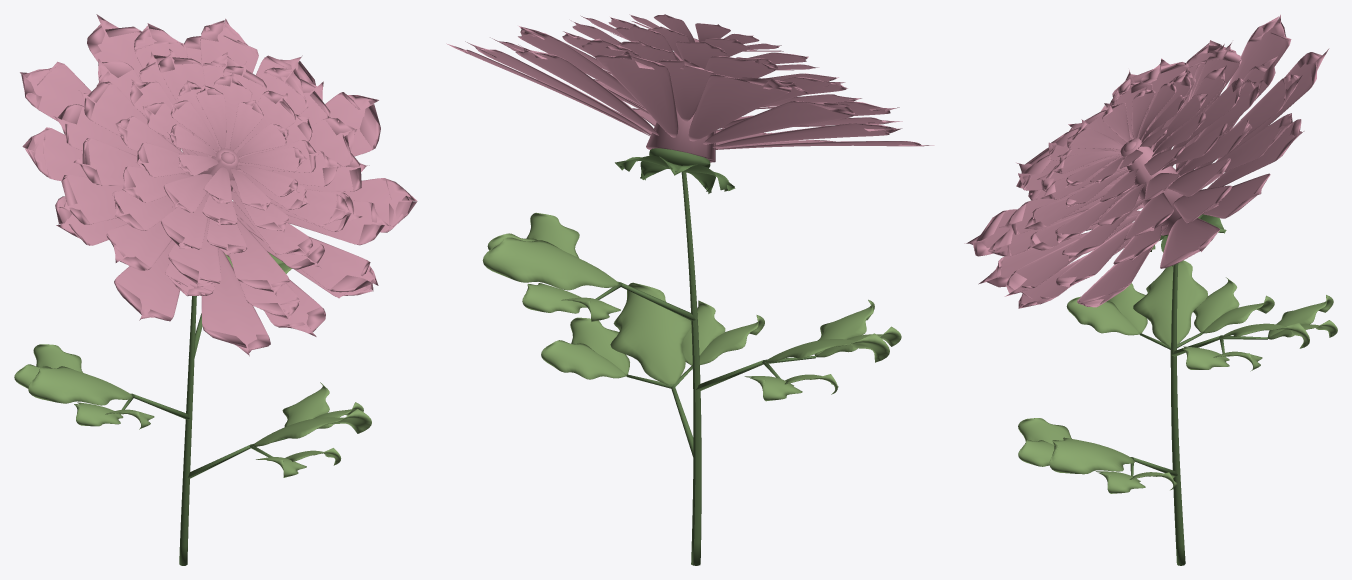
File: peony-legendary-v2.glb
3 views of the same model, side by side, from view 1: azimuth 30°, elevation 25°; view 2: azimuth 150°, elevation 25°; view 3: azimuth 270°, elevation 25° (orthographic). The views are drawn at different scales.
Visible parts, largest first — view 1: peony-legendary-v2-petal, peony-legendary-v2-leaf, peony-legendary-v2-stem; view 2: peony-legendary-v2-petal, peony-legendary-v2-leaf, peony-legendary-v2-stem; view 3: peony-legendary-v2-petal, peony-legendary-v2-leaf, peony-legendary-v2-stem.
Part boxes in pixels (x1=…): peony-legendary-v2-petal: x1=20, y1=14, x2=417, y2=356; peony-legendary-v2-leaf: x1=14, y1=252, x2=371, y2=477; peony-legendary-v2-stem: x1=122, y1=296, x2=287, y2=565; peony-legendary-v2-petal: x1=446, y1=14, x2=934, y2=162; peony-legendary-v2-leaf: x1=482, y1=212, x2=901, y2=401; peony-legendary-v2-stem: x1=595, y1=148, x2=815, y2=565; peony-legendary-v2-petal: x1=964, y1=14, x2=1329, y2=308; peony-legendary-v2-leaf: x1=1018, y1=260, x2=1337, y2=493; peony-legendary-v2-stem: x1=1130, y1=214, x2=1267, y2=565.
Size of the model in its own units: 1.48 by 1.93 by 1.28.
